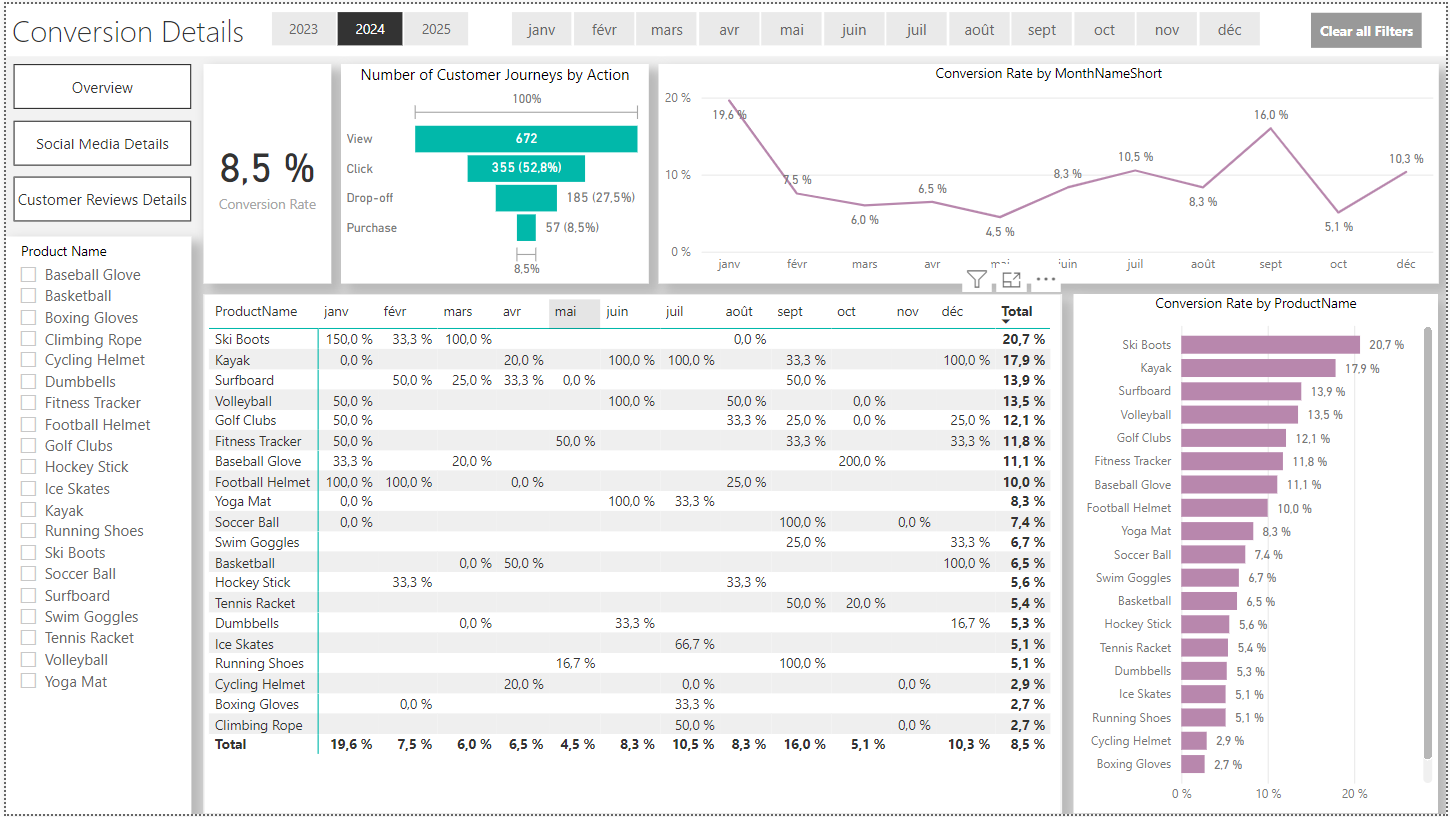

The dashboard page shown, as its layout file describes it:
{"tool":"powerbi","page":{"name":"Conversion Details","canvas":[1280,720],"ordinal":1},"visuals":[{"type":"slicer","fields":{"Values":["dim_products.ProductName"]},"box":[0,206.2,165,513.8],"z":0},{"type":"textbox","box":[0,0,1280,46.3],"z":1000},{"type":"card","fields":{"Values":["_Calculations.Conversion Rate"]},"box":[175,53.8,113.8,195],"z":2000},{"type":"funnel","fields":{"Y":["_Calculations.Number of Customer Journeys"],"Category":["fact_customer_journey.Action"]},"box":[297.5,53.8,273.8,195],"z":3000},{"type":"lineChart","fields":{"Y":["_Calculations.Conversion Rate"],"Category":["Calendar.MonthNameShort"]},"box":[580,53.8,693.8,195],"z":4000},{"type":"pivotTable","fields":{"Values":["_Calculations.Conversion Rate"],"Rows":["dim_products.ProductName"],"Columns":["Calendar.MonthNameShort"]},"box":[175.7,257.7,763.5,461.9],"z":5000},{"type":"clusteredBarChart","fields":{"Category":["dim_products.ProductName"],"Y":["_Calculations.Conversion Rate"]},"box":[948.7,257.7,324.1,461.9],"z":6000},{"type":"pageNavigator","box":[6.2,53.8,158.8,140],"z":7000},{"type":"slicer","fields":{"Values":["Calendar.Year"]},"box":[210,0,225,43.8],"z":8000},{"type":"slicer","fields":{"Values":["Calendar.MonthNameShort"]},"box":[423.8,0,715,43.8],"z":9000},{"type":"actionButton","box":[1160,7.5,98.8,31.2],"z":10000}]}

Visuals, with their boxes in screenshot pixels (x1, y1, x2, y2), scaled from the page's 1280x720 canvas onto the 1450x817 screenshot:
slicer - dim_products.ProductName: (x1=0, y1=234, x2=187, y2=816)
textbox: (x1=0, y1=0, x2=1449, y2=53)
card - _Calculations.Conversion Rate: (x1=198, y1=61, x2=327, y2=282)
funnel - _Calculations.Number of Customer Journeys x fact_customer_journey.Action: (x1=337, y1=61, x2=647, y2=282)
lineChart - _Calculations.Conversion Rate x Calendar.MonthNameShort: (x1=657, y1=61, x2=1443, y2=282)
pivotTable - _Calculations.Conversion Rate x dim_products.ProductName: (x1=199, y1=292, x2=1064, y2=816)
clusteredBarChart - dim_products.ProductName x _Calculations.Conversion Rate: (x1=1075, y1=292, x2=1442, y2=816)
pageNavigator: (x1=7, y1=61, x2=187, y2=220)
slicer - Calendar.Year: (x1=238, y1=0, x2=493, y2=50)
slicer - Calendar.MonthNameShort: (x1=480, y1=0, x2=1290, y2=50)
actionButton: (x1=1314, y1=9, x2=1426, y2=44)
